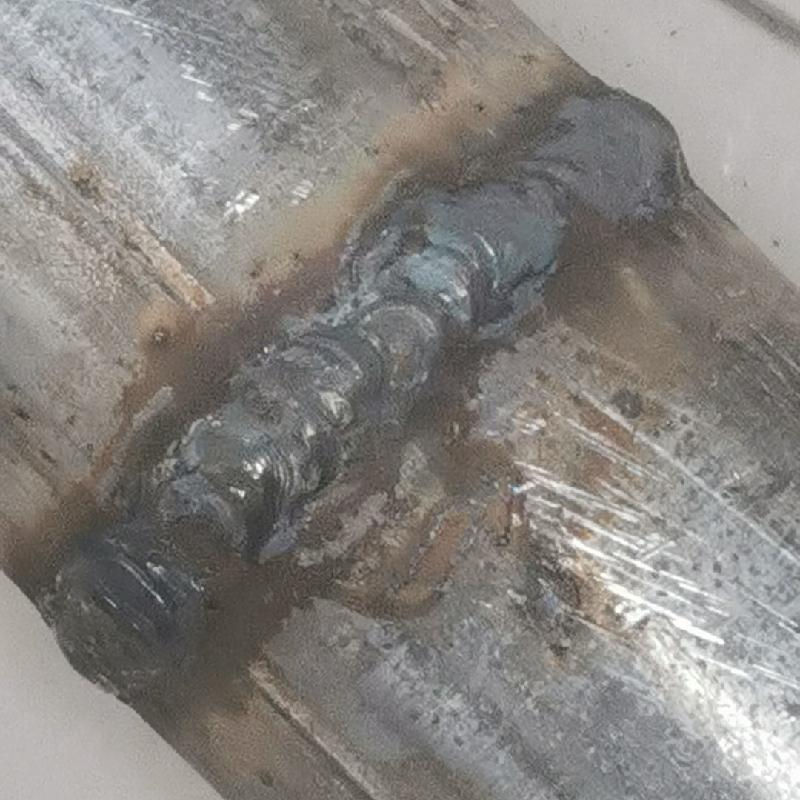good: (30, 77, 682, 694)
